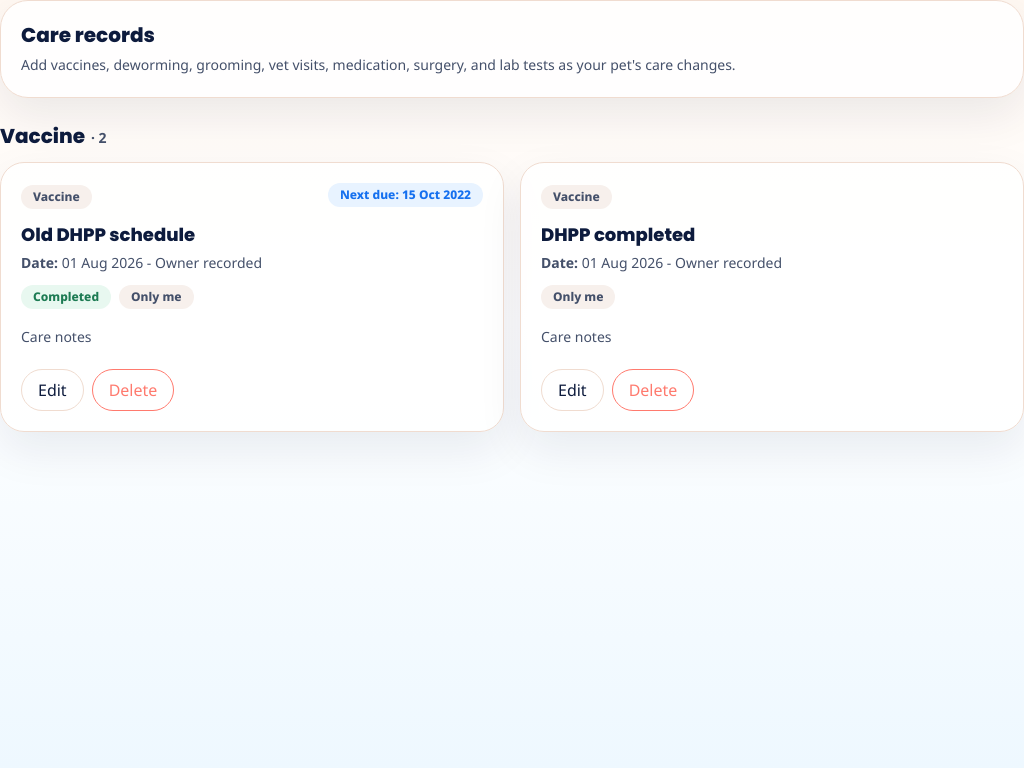
Test: RecordsManager care identity and fulfilment › shows Completed only while the explicit fulfiller remains active
Expected: the text "Completed" is shown, [21,285,111,309]
Expected: the text "Overdue" is not shown
Step 1. Click the button "Delete" below "DHPP completed" → (653, 390), box [612,369,694,411]
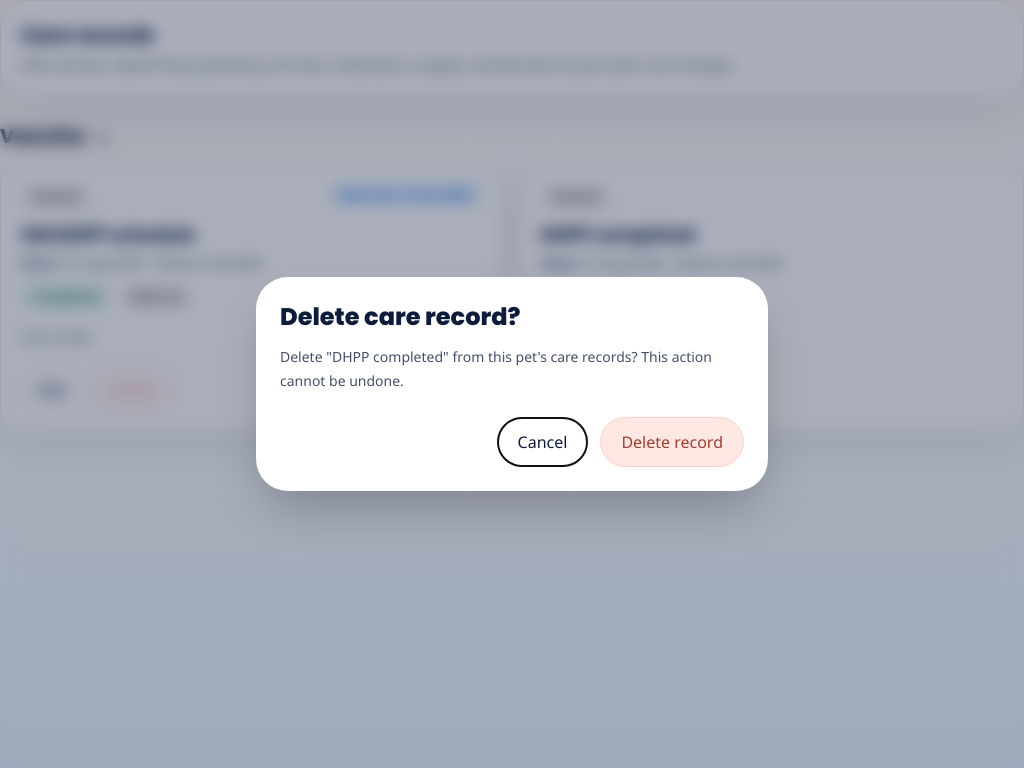
Step 2. Click the button "Delete record" → (672, 442), box [600,417,744,467]
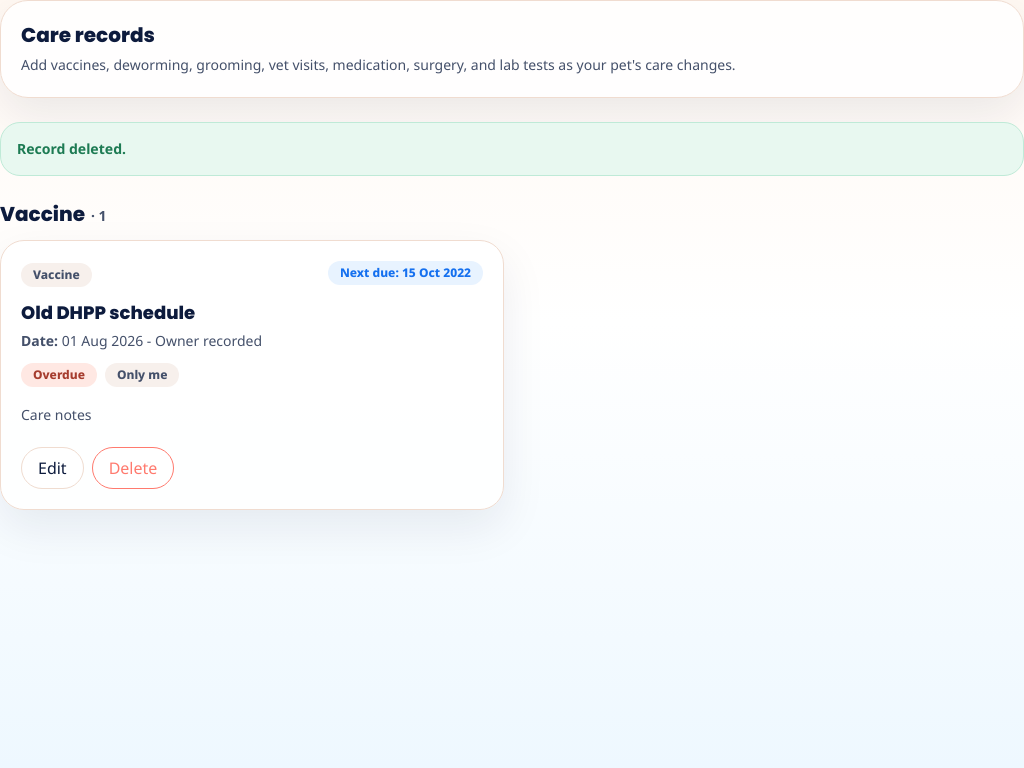
Expected: the text "Overdue" is shown, [21,363,97,387]
Expected: the text "Completed" is gone
